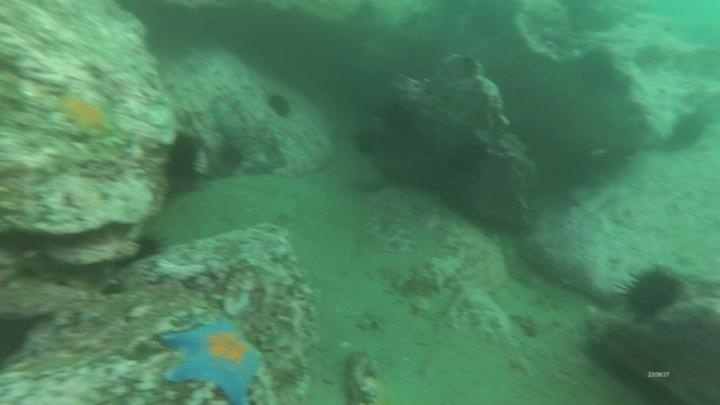echinus: (619, 263, 686, 321), (161, 132, 204, 189), (573, 47, 617, 93), (668, 110, 709, 152), (351, 124, 385, 159), (131, 231, 166, 262), (264, 90, 295, 120), (217, 142, 247, 172)
starfish: (158, 314, 266, 405), (208, 99, 247, 142)
